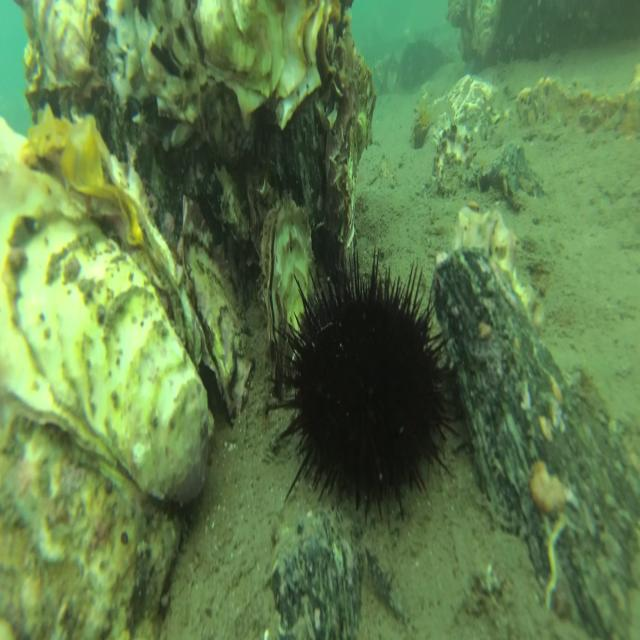echinus: (265, 244, 466, 525)
